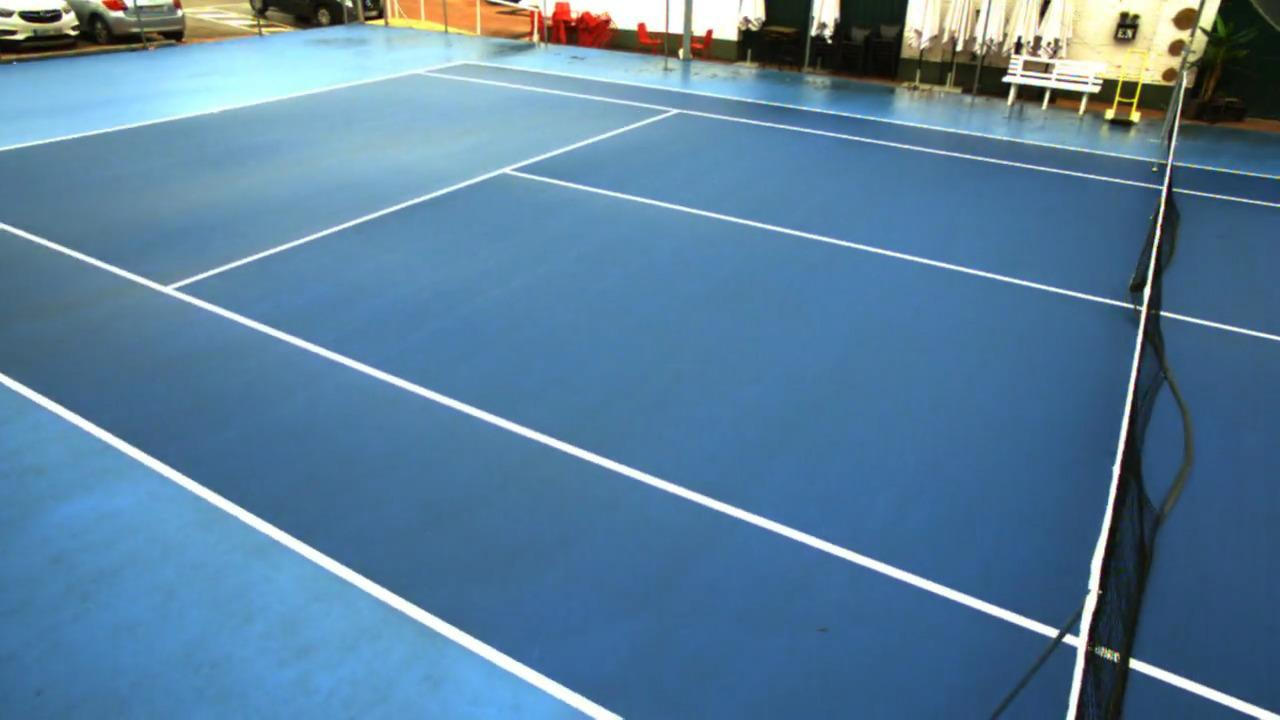cancha_tenis: (2, 67, 1280, 720)
point_f2: (407, 57, 436, 84)
point_fc1: (206, 104, 223, 120)
point_i1: (153, 273, 184, 305)
point_i2: (659, 100, 689, 121)
point_ic1: (492, 159, 525, 182)
